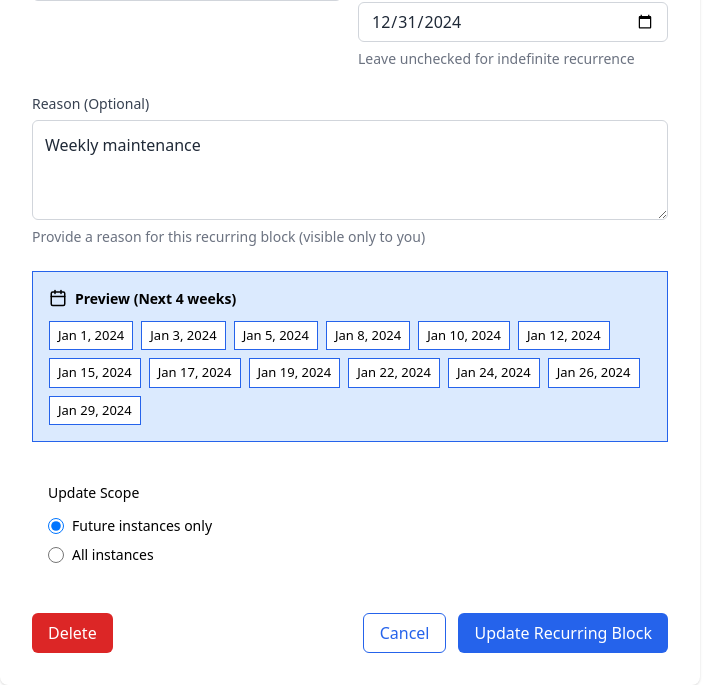
Test case: RecurringBlockForm › Edit Mode › shows delete confirmation when delete is clicked
The width and height of the screenshot is (718, 685).
(page scrolled)
Click the button "Delete": (72, 633) [32,613,113,653]
(page scrolled)
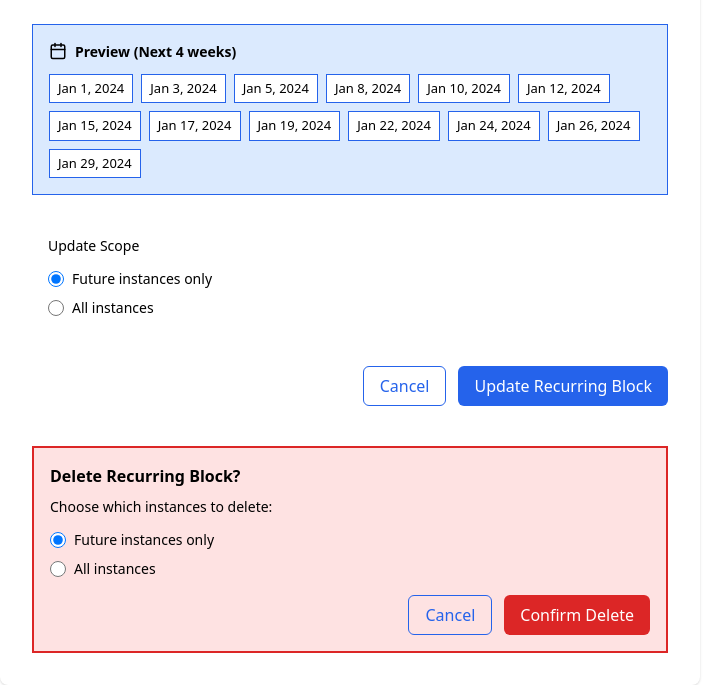
Now the heading "Delete Recurring Block?" is shown, box [50,465,240,487]
Now the button "Confirm Delete" is shown, box [504,595,650,635]
